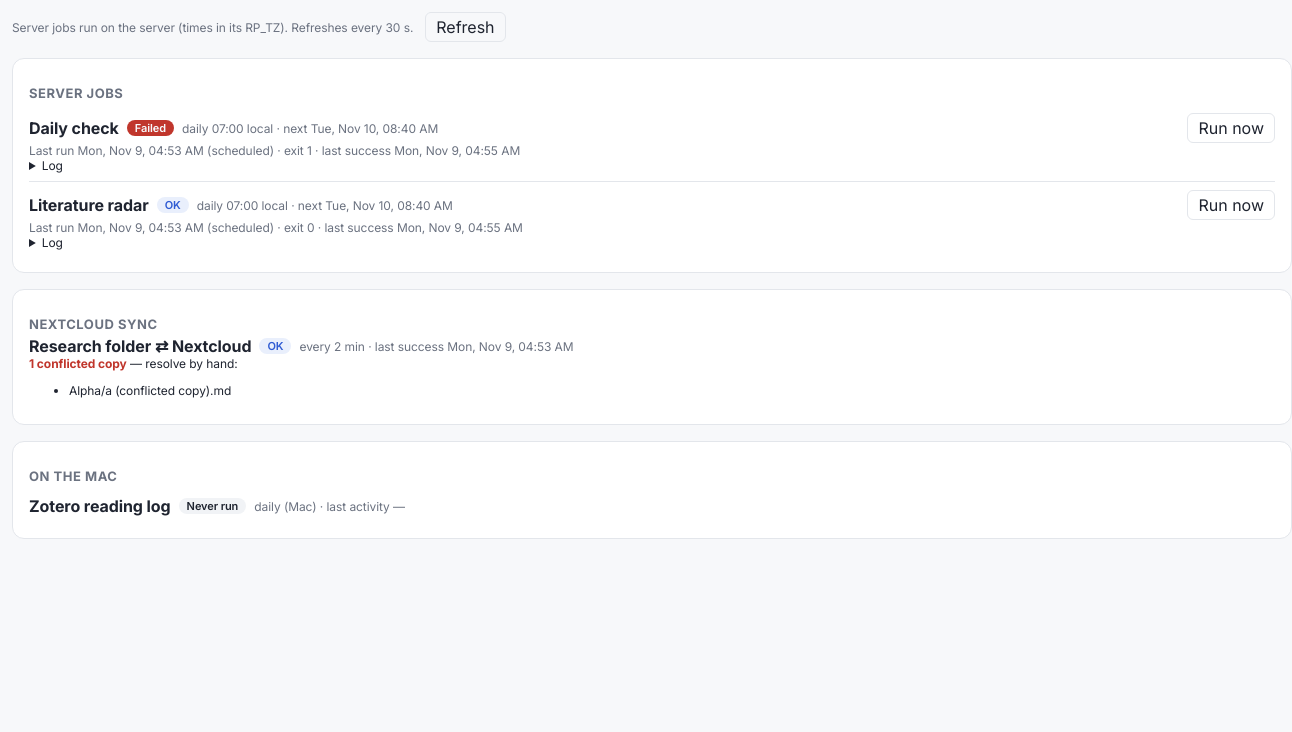
Test: Automation › shows job statuses, conflicts, and queues a run
Expected: the text "Failed" is shown, 127,120 -> 174,136
Expected: the text "OK" next to "Literature radar" is shown, 165,198 -> 181,212
Click the button "Run now" in the row of "Failed" at (1231, 128), box 1187,113 -> 1275,143
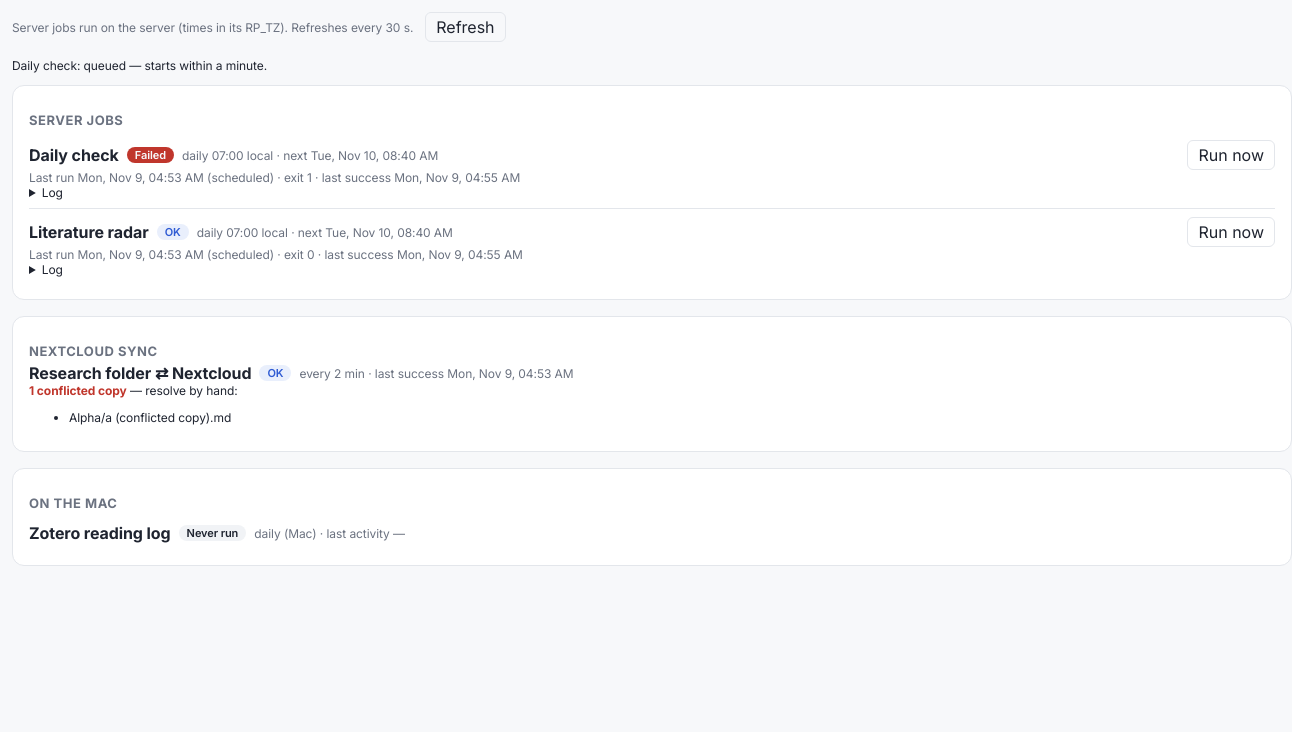
Now the message shows "queued", box 12,58 -> 267,73
